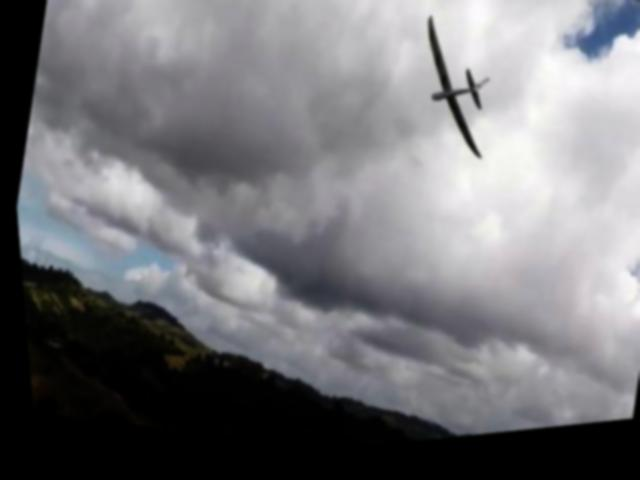iha: (389, 16, 511, 184)
